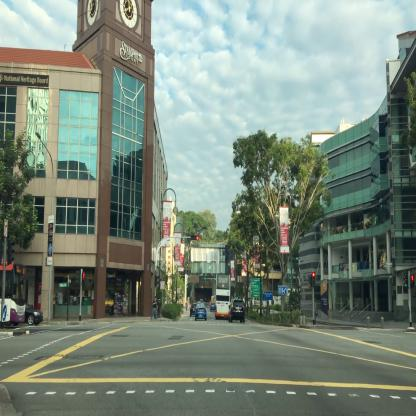red_traffic_light: (312, 272, 315, 286), (191, 235, 198, 240)
